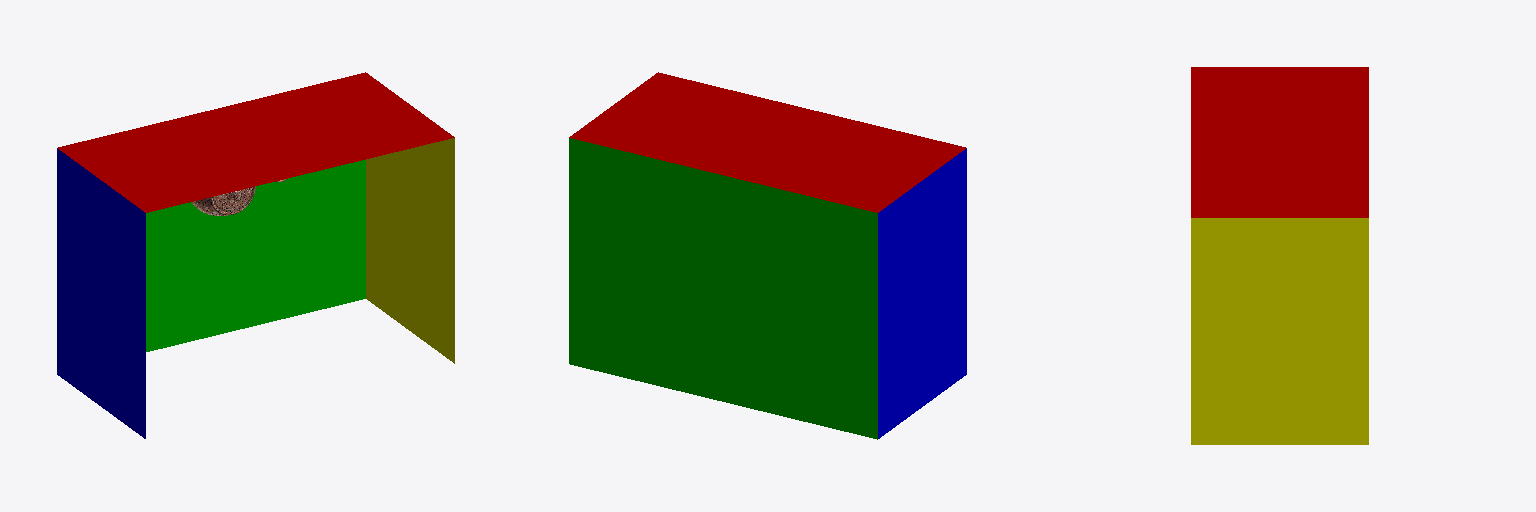
3 renders of one model, left to right at view 1: azimuth 30°, elevation 25°; view 2: azimuth 150°, elevation 25°; view 3: azimuth 270°, elevation 25°, orthographic.
Visible parts, largest first — view 1: groundplane, backplane, leftplane, rightplane, Teapot; view 2: groundplane, backplane, leftplane; view 3: rightplane, backplane.
Boxes of the visible parts, box(x1,y1,x2,y2) form: groundplane: box(146, 160, 365, 351); backplane: box(58, 72, 454, 212); leftplane: box(57, 148, 145, 438); rightplane: box(366, 138, 454, 363); Teapot: box(192, 179, 285, 215); groundplane: box(569, 138, 877, 439); backplane: box(569, 72, 965, 212); leftplane: box(878, 148, 966, 438); rightplane: box(1191, 218, 1368, 444); backplane: box(1191, 67, 1368, 217).
Size of the model in its own units: 100 by 70 by 50.
Materials: 5 (1 with a texture image).